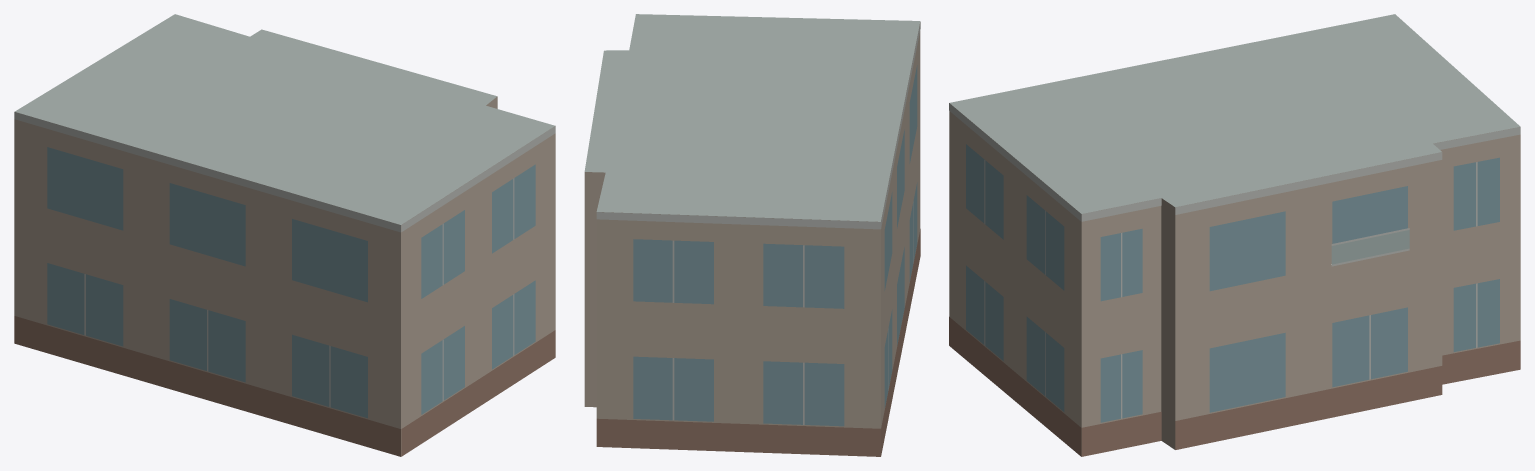
File: survey-upis-32910404.glb
3 views of the same model, side by side, from view 1: azimuth 30°, elevation 25°; view 2: azimuth 150°, elevation 25°; view 3: azimuth 270°, elevation 25° (orthographic). The views are drawn at different scales.
Parts seen in each view (by area): view 1: survey-upis-32910404.tmp; view 2: survey-upis-32910404.tmp; view 3: survey-upis-32910404.tmp.
Boxes of the visible parts, x1,y1,x2,y2 form: survey-upis-32910404.tmp: (14, 14, 555, 456); survey-upis-32910404.tmp: (584, 14, 920, 456); survey-upis-32910404.tmp: (949, 14, 1520, 456).
Bounding box in the file's own units: 13.44 × 7.6 × 16.22.
